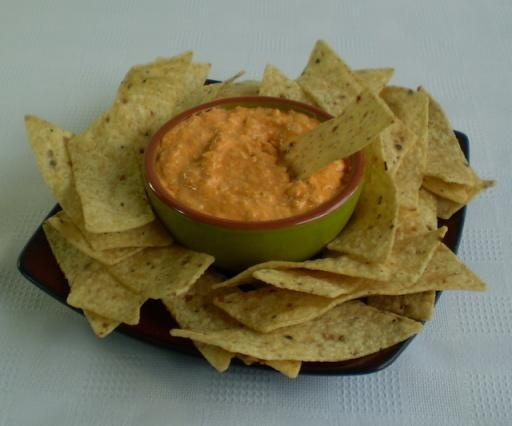background: (19, 27, 397, 252)
